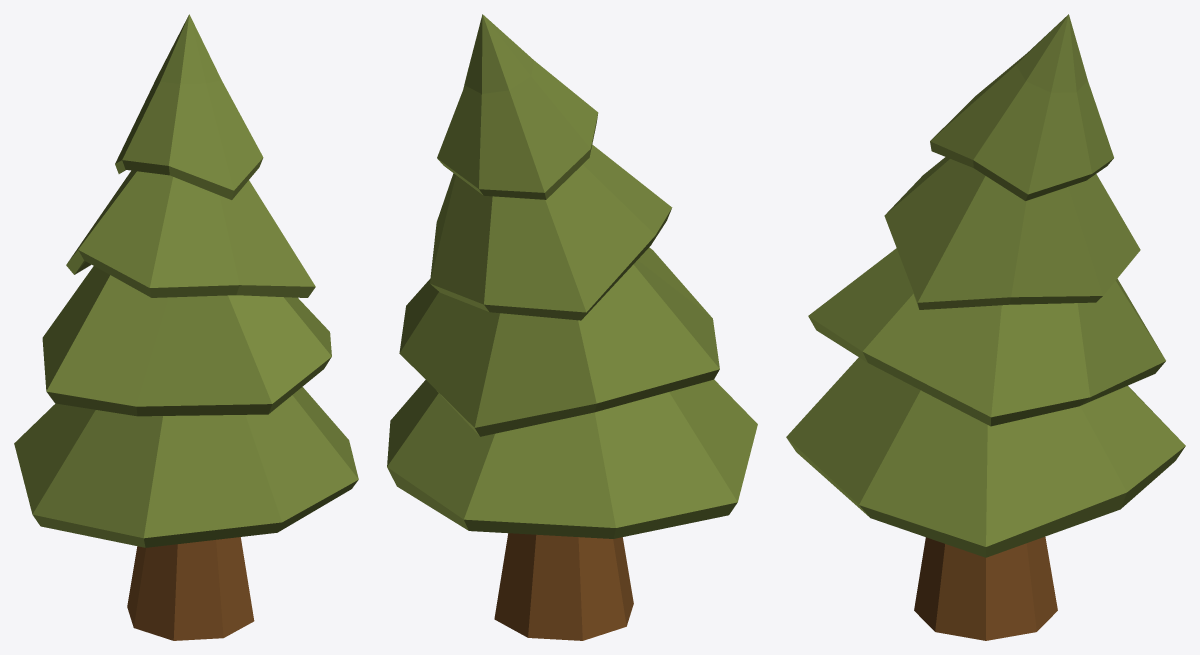
The model's file is PineTreeBig.fbx.
The picture shows the model from 3 angles, left to right: view 1: azimuth 30°, elevation 25°; view 2: azimuth 150°, elevation 25°; view 3: azimuth 270°, elevation 25°; orthographic projection. The views are drawn at different scales.
Parts seen in each view (by area): view 1: Cylinder.1439; view 2: Cylinder.1439; view 3: Cylinder.1439.
Boxes of the visible parts, x1=… form: Cylinder.1439: x1=14, y1=14, x2=358, y2=640; Cylinder.1439: x1=387, y1=14, x2=757, y2=640; Cylinder.1439: x1=786, y1=14, x2=1185, y2=640.
Bounding box in the file's own units: 240 × 408 × 240.
